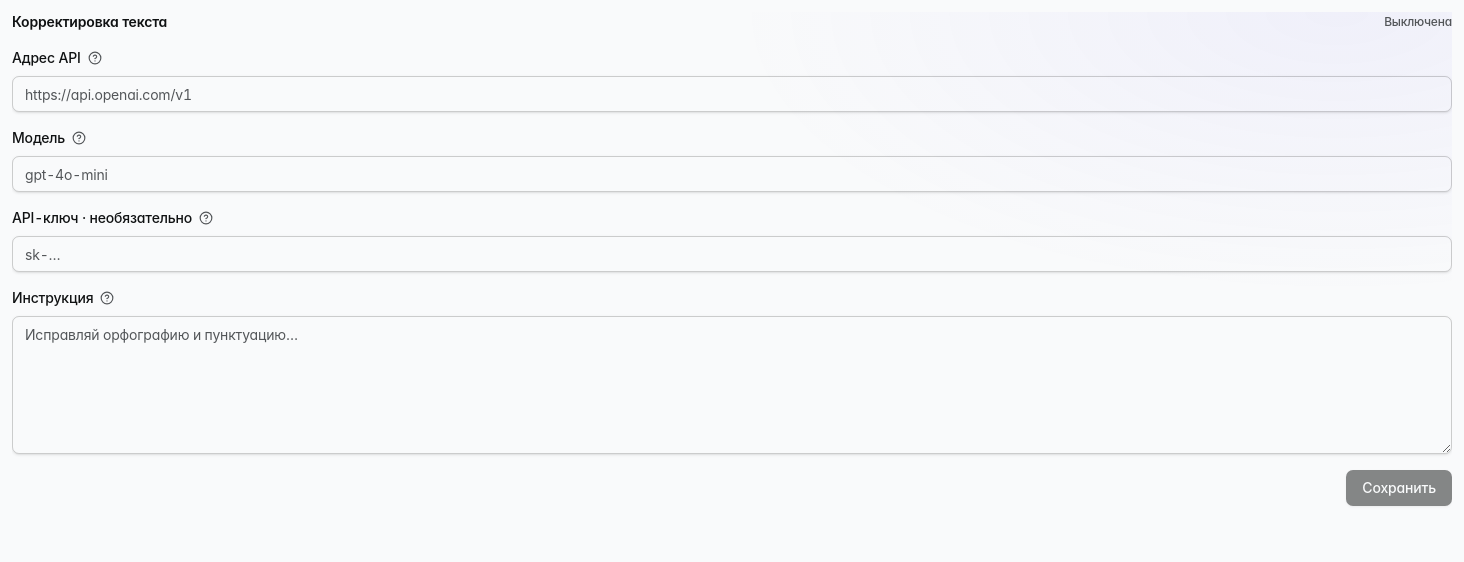
Scenario: CorrectionSetting › validates URL and required fields without submitting secrets
Expected: the button "Сохранить" is disabled, [1346,470,1452,506]
Type "https://user:secret@example.com" into the field labelled "Адрес API" at [732, 94], box [12,76,1452,112]
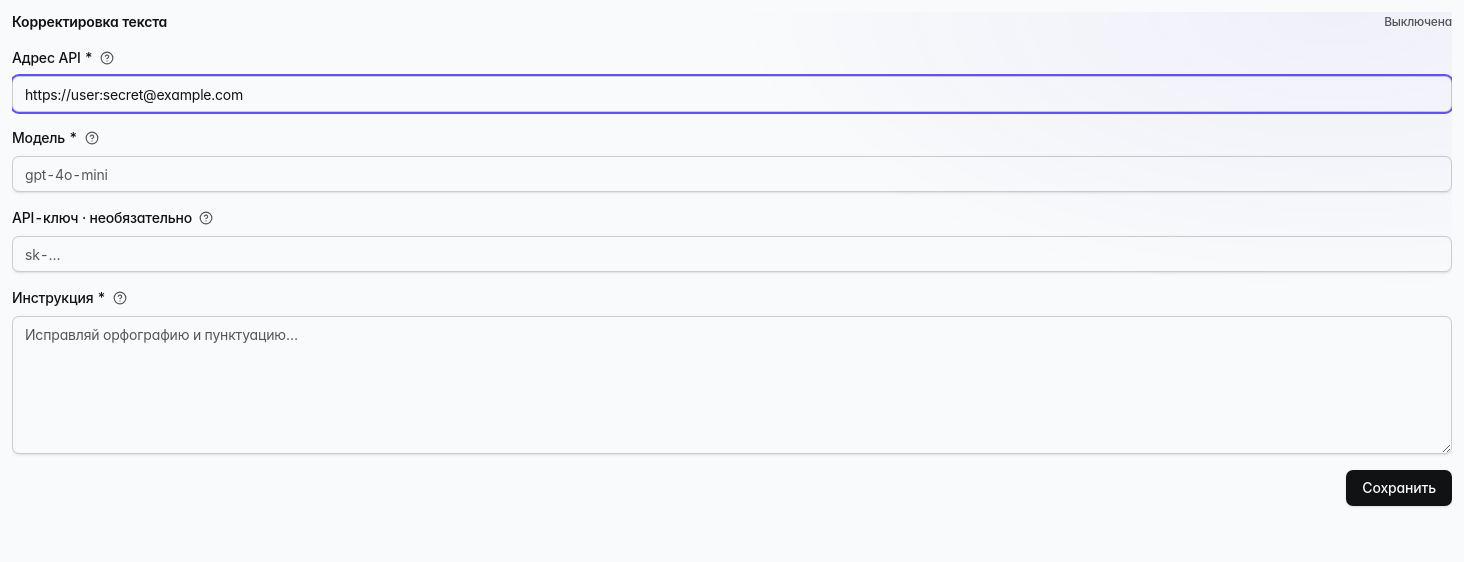
Click the button "Сохранить" at [1399, 488], box [1346,470,1452,506]
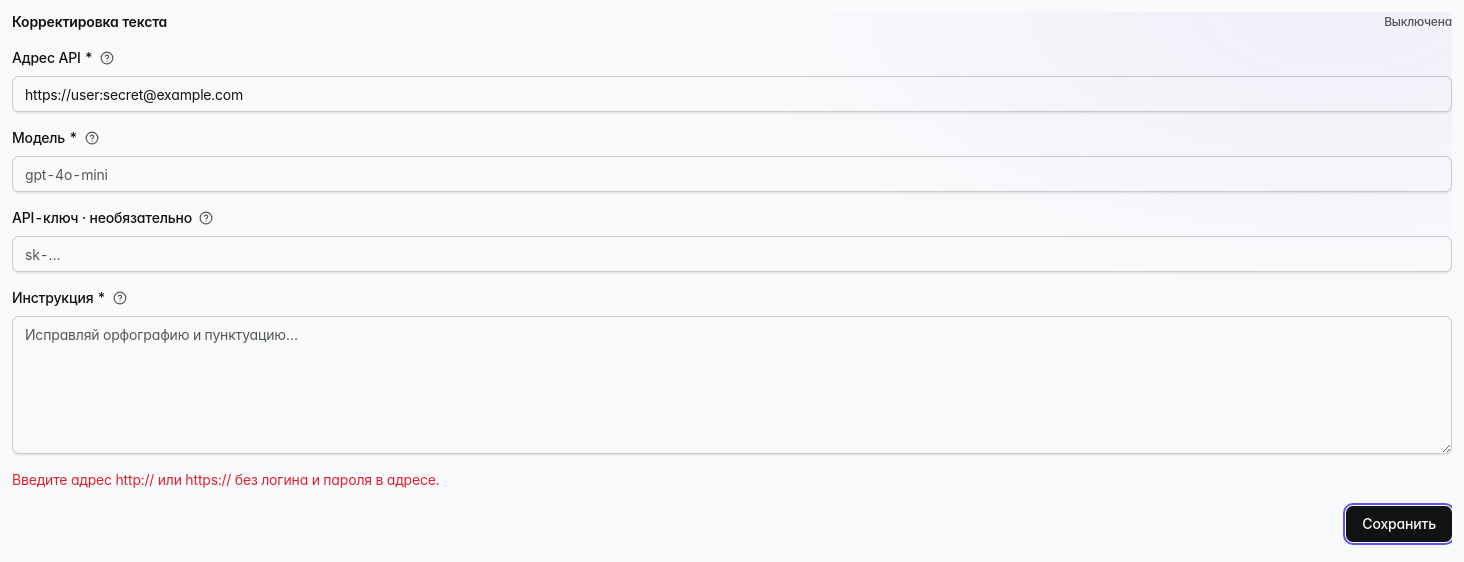
Expected: the message shows "без логина и пароля", [12,471,439,488]
Replace the text in the field labelled "Адрес API *" with "https://example.com/v1" at [732, 94], box [12,76,1452,112]
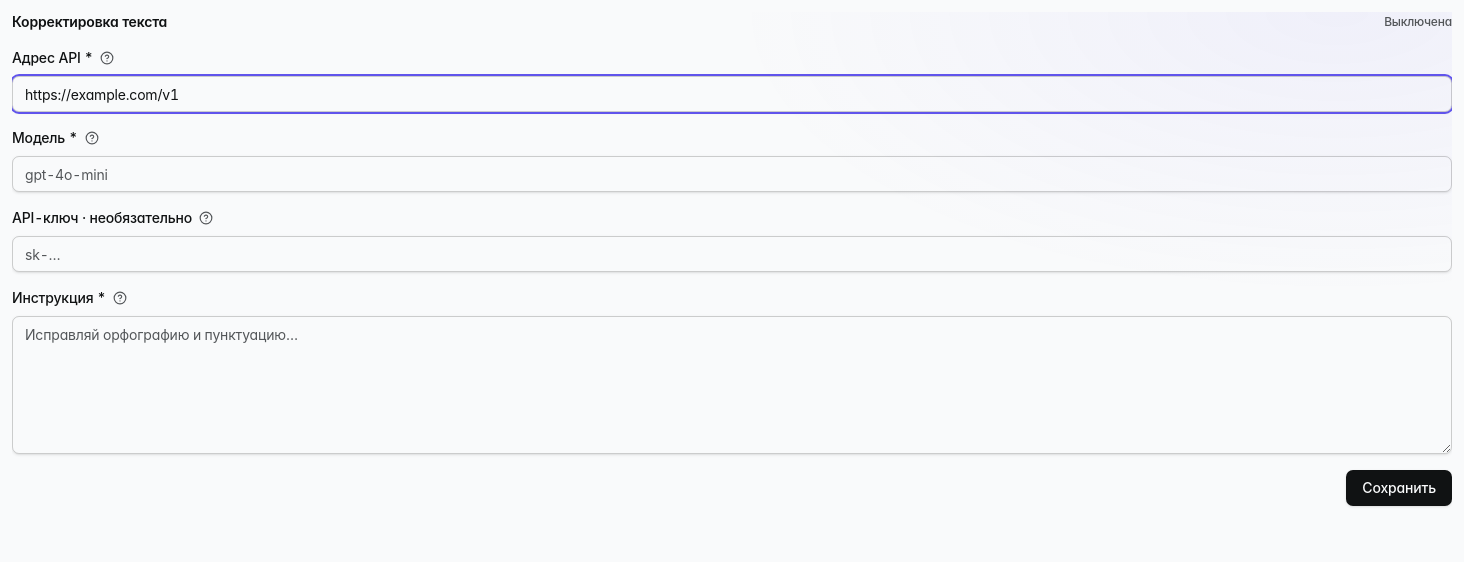
Click the button "Сохранить" at [1399, 488], box [1346,470,1452,506]
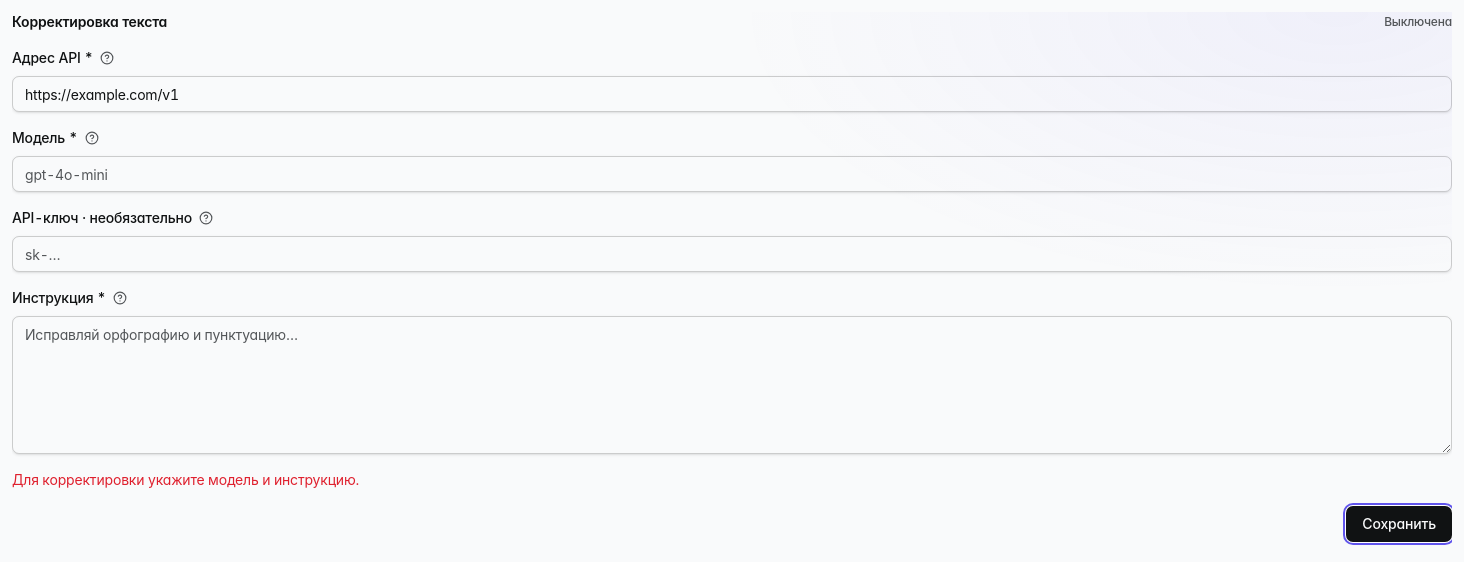
Expected: the message shows "модель и инструкцию", [12,471,359,488]
